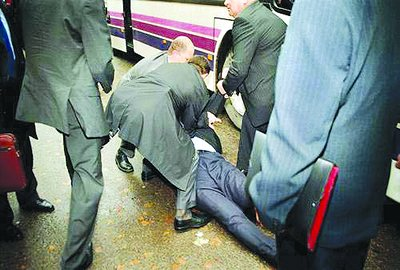fall: (170, 112, 277, 265)
